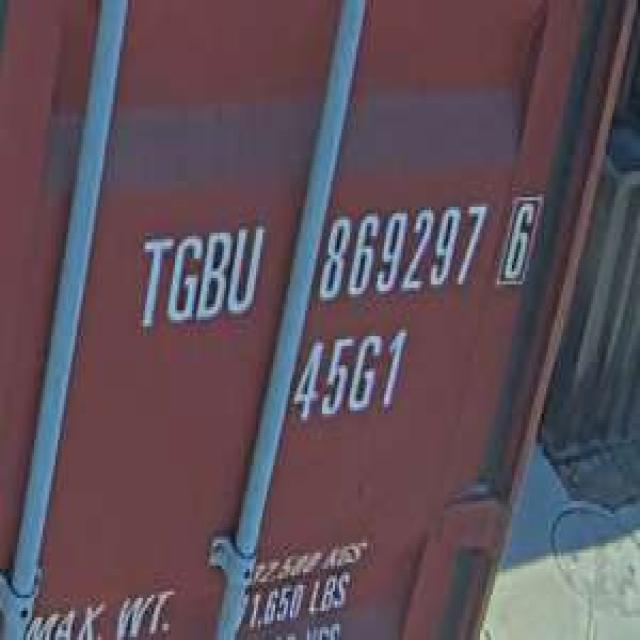dv: (493, 184, 542, 294)
owner: (132, 210, 267, 333)
serial: (316, 194, 488, 307)
size: (288, 320, 412, 430)
